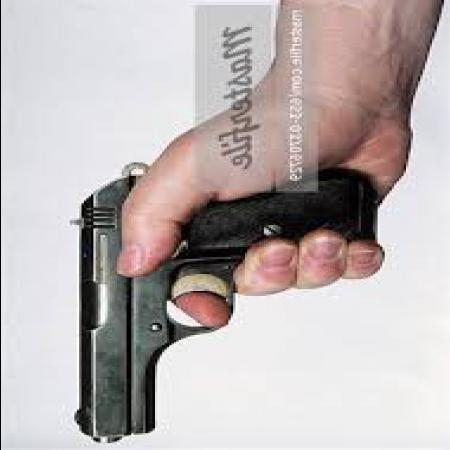Pistol: (61, 166, 379, 444)
